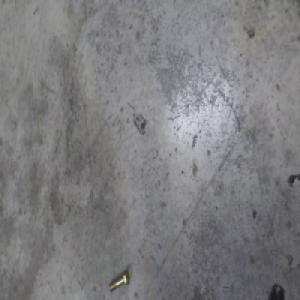Bolt: (108, 268, 129, 293)
